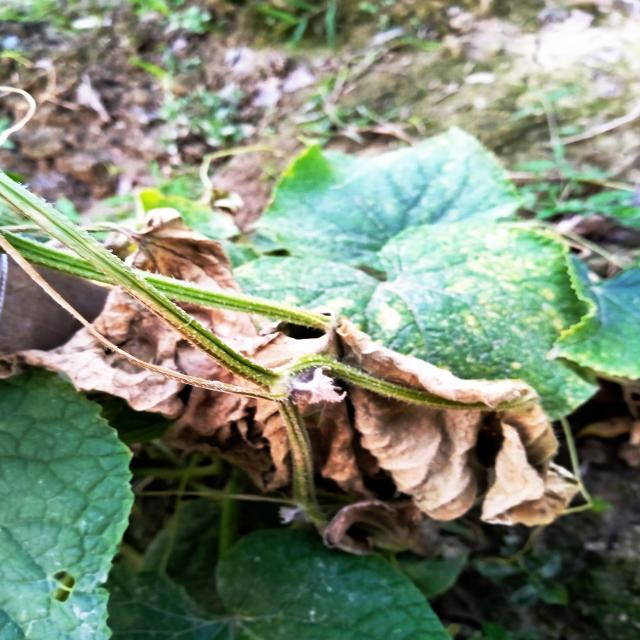Bacterial-Wilt: (0, 202, 582, 562)
